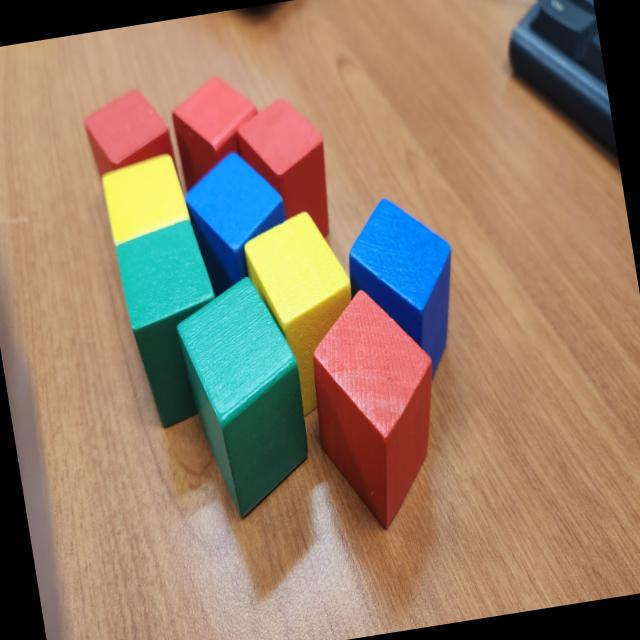blue: (338, 188, 473, 393), (178, 144, 300, 302)
green: (168, 270, 322, 524), (110, 216, 236, 434)
red: (297, 280, 457, 538), (230, 93, 340, 249), (165, 69, 270, 197), (80, 83, 178, 181)
yellow: (238, 206, 372, 426), (99, 154, 190, 248)
